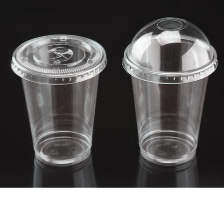glass: (119, 8, 222, 169), (8, 28, 106, 172)
